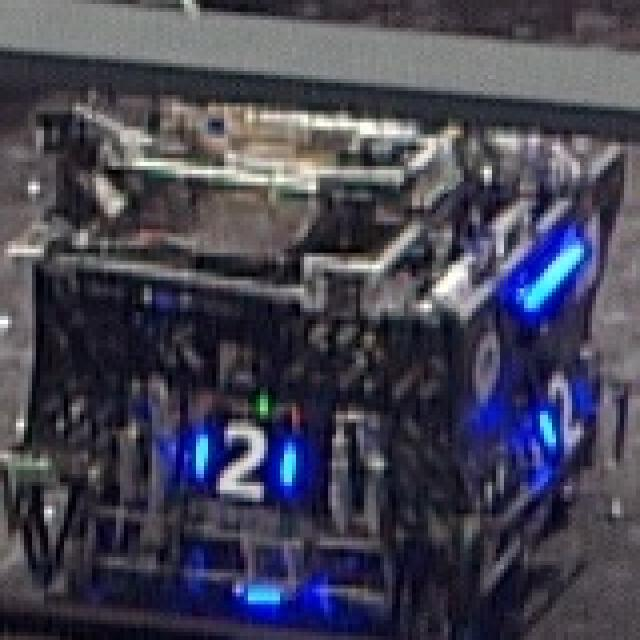B2: (188, 418, 296, 502), (536, 368, 596, 454)
